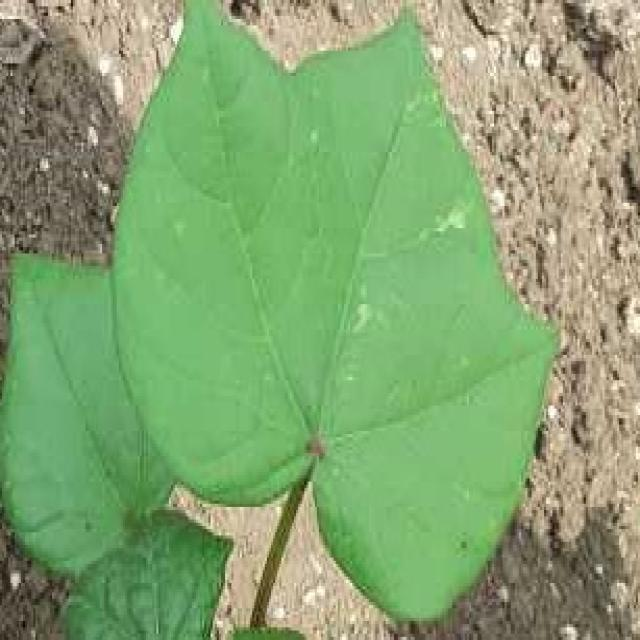Healthy Leaf: (2, 47, 640, 640)
